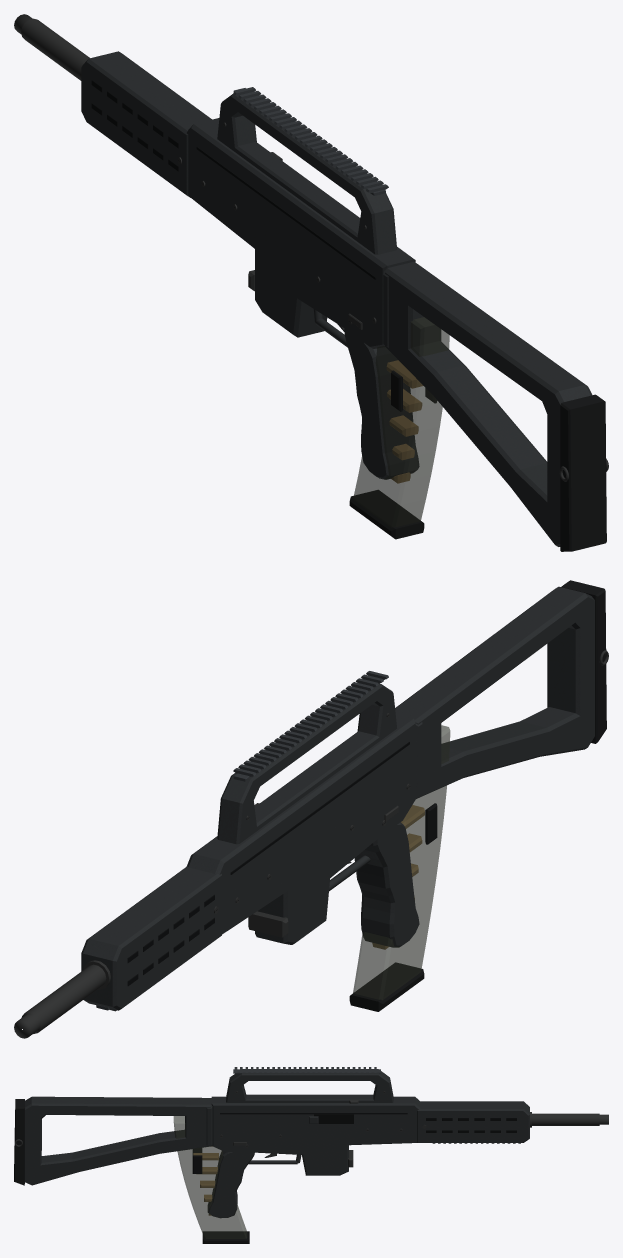
The model's file is weapon-11-DopSVlXD.glb.
The picture shows the model from 3 angles, top to bottom: view 1: azimuth 30°, elevation 25°; view 2: azimuth 150°, elevation 25°; view 3: azimuth 270°, elevation 25°; orthographic projection. The views are drawn at different scales.
Parts seen in each view (by area): view 1: salient_weapon_body, salient_weapon_magazine; view 2: salient_weapon_body, salient_weapon_magazine; view 3: salient_weapon_body, salient_weapon_magazine.
Boxes of the visible parts, box(x1,y1,x2,y2) form: salient_weapon_body: box(14, 14, 608, 551); salient_weapon_magazine: box(349, 317, 449, 539); salient_weapon_body: box(14, 580, 608, 1038); salient_weapon_magazine: box(349, 725, 450, 1011); salient_weapon_body: box(14, 1067, 608, 1217); salient_weapon_magazine: box(173, 1116, 249, 1243).
Bounding box in the file's own units: 0.0392 × 0.2813 × 0.8872.
12 materials, 3 textured.
